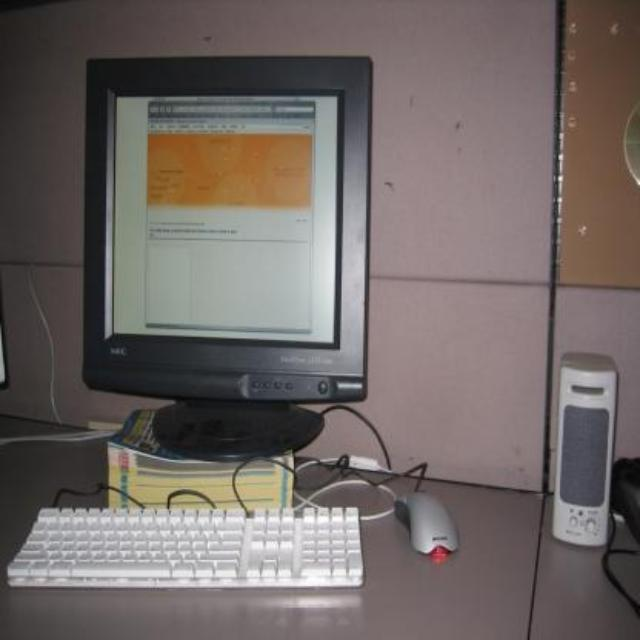Computer-Keyboard: (6, 496, 382, 608)
Computer-Mouse: (394, 478, 481, 576)
